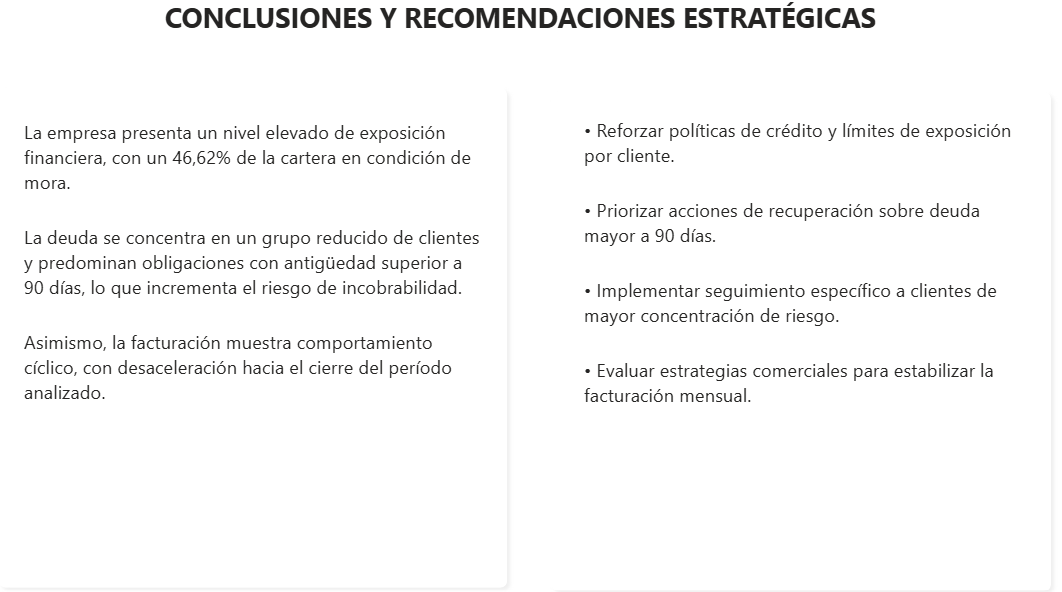

The dashboard page shown, as its layout file describes it:
{"tool":"powerbi","page":{"name":"Conclusiones y Recomendaciones","canvas":[1280,720],"ordinal":3},"visuals":[{"type":"shape","box":[0,100.3,607.5,597.5],"z":0},{"type":"shape","box":[640,103.8,597.5,597.5],"z":1},{"type":"textbox","box":[32.8,140.9,541.2,516.2],"z":2},{"type":"textbox","box":[682.5,137.5,517.5,427.5],"z":3},{"type":"textbox","box":[0,0,1227.5,80],"z":4}]}

Visuals, with their boxes in screenshot pixels (x1, y1, x2, y2), scaled from the page's 1280x720 canvas onto the 1062x592 screenshot:
shape: {"left": 0, "top": 82, "right": 504, "bottom": 574}
shape: {"left": 531, "top": 85, "right": 1027, "bottom": 577}
textbox: {"left": 27, "top": 116, "right": 476, "bottom": 540}
textbox: {"left": 566, "top": 113, "right": 996, "bottom": 465}
textbox: {"left": 0, "top": 0, "right": 1018, "bottom": 66}
